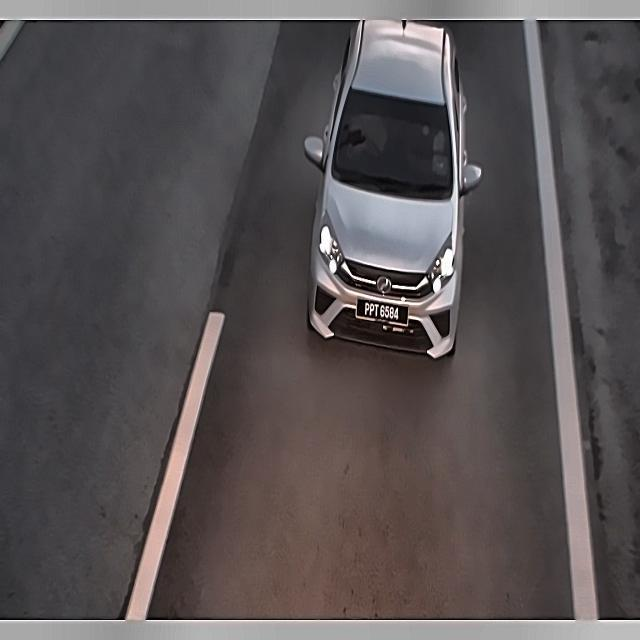car: (352, 288, 414, 337)
